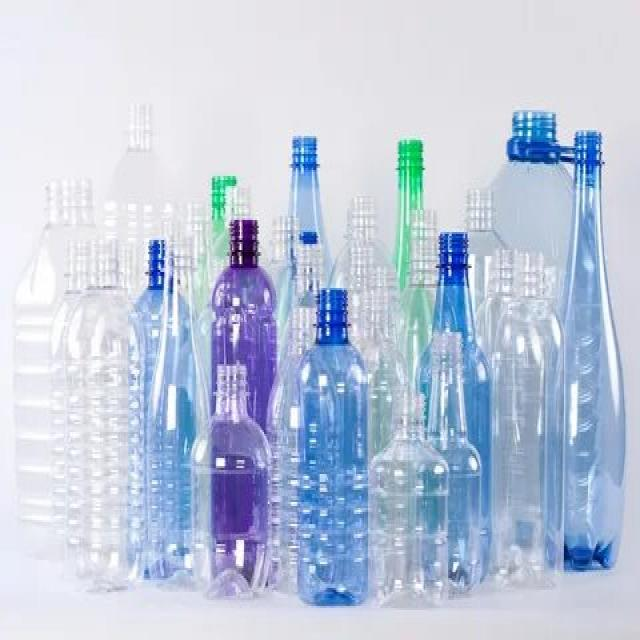blue: (564, 128, 626, 572), (300, 288, 368, 607), (496, 112, 574, 248), (289, 136, 321, 216)
